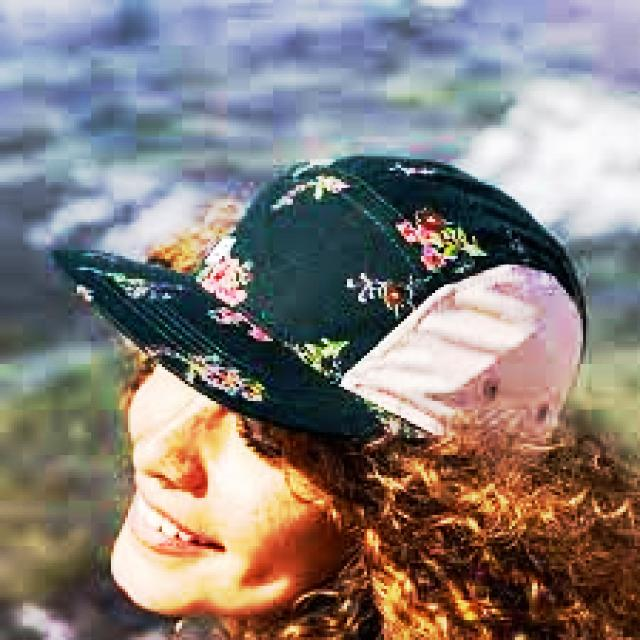TOPI: (37, 148, 592, 469)
